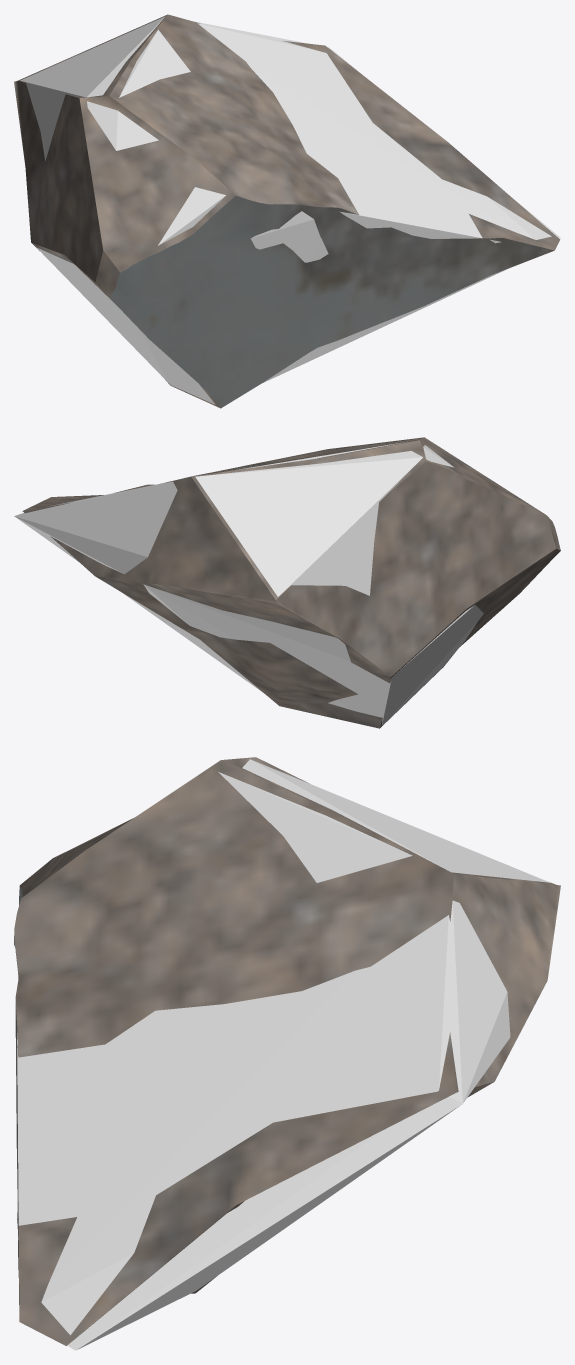
The model's file is SM_Rock_55.fbx.
3 renders of one model, top to bottom at view 1: azimuth 30°, elevation 25°; view 2: azimuth 150°, elevation 25°; view 3: azimuth 270°, elevation 25°, orthographic. The views are drawn at different scales.
Parts seen in each view (by area): view 1: SM_Rock_55_LOD0, SM_Rock_55_ConvexHulls; view 2: SM_Rock_55_LOD0, SM_Rock_55_ConvexHulls; view 3: SM_Rock_55_ConvexHulls, SM_Rock_55_LOD0.
Part boxes in pixels (left/top/right/bottom): SM_Rock_55_LOD0: left=14, top=14, right=560, bottom=408; SM_Rock_55_ConvexHulls: left=20, top=16, right=560, bottom=404; SM_Rock_55_LOD0: left=22, top=437, right=560, bottom=728; SM_Rock_55_ConvexHulls: left=14, top=441, right=483, bottom=725; SM_Rock_55_ConvexHulls: left=17, top=759, right=549, bottom=1350; SM_Rock_55_LOD0: left=14, top=757, right=560, bottom=1345.
Bounding box in the file's own units: 42.27 × 28.64 × 25.02.
